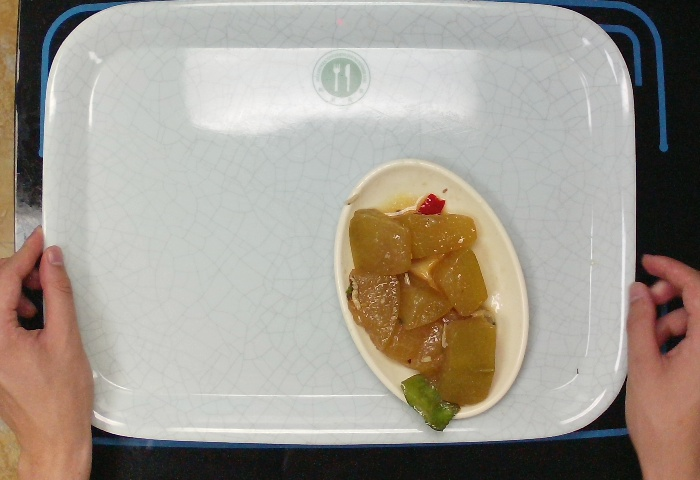JYsf-Tuo_Yuan_Wan: (330, 158, 532, 417)
